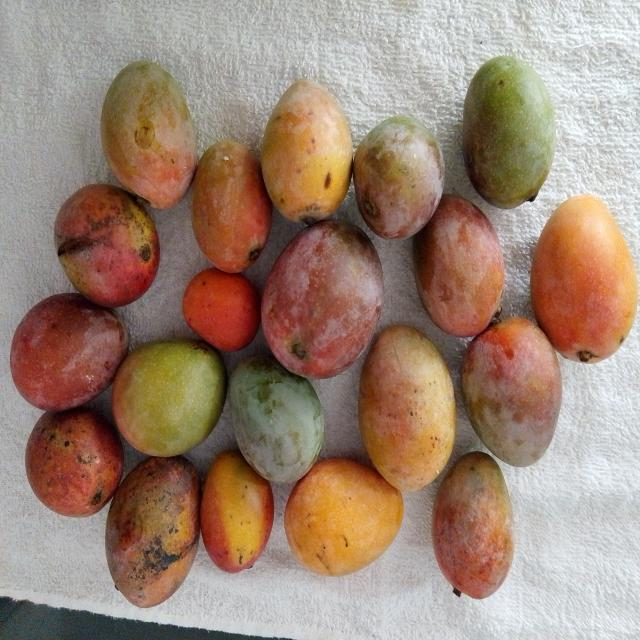mango: (262, 220, 383, 378), (531, 195, 637, 362), (359, 326, 455, 491), (110, 336, 230, 460), (462, 318, 561, 466), (101, 61, 197, 209), (10, 290, 128, 410), (106, 457, 200, 607), (463, 56, 555, 208), (285, 459, 403, 575), (262, 79, 352, 223), (413, 195, 504, 337), (54, 185, 159, 307), (432, 452, 513, 598), (230, 357, 324, 482), (26, 403, 124, 519), (353, 116, 444, 238), (192, 141, 271, 272), (201, 450, 274, 572)
